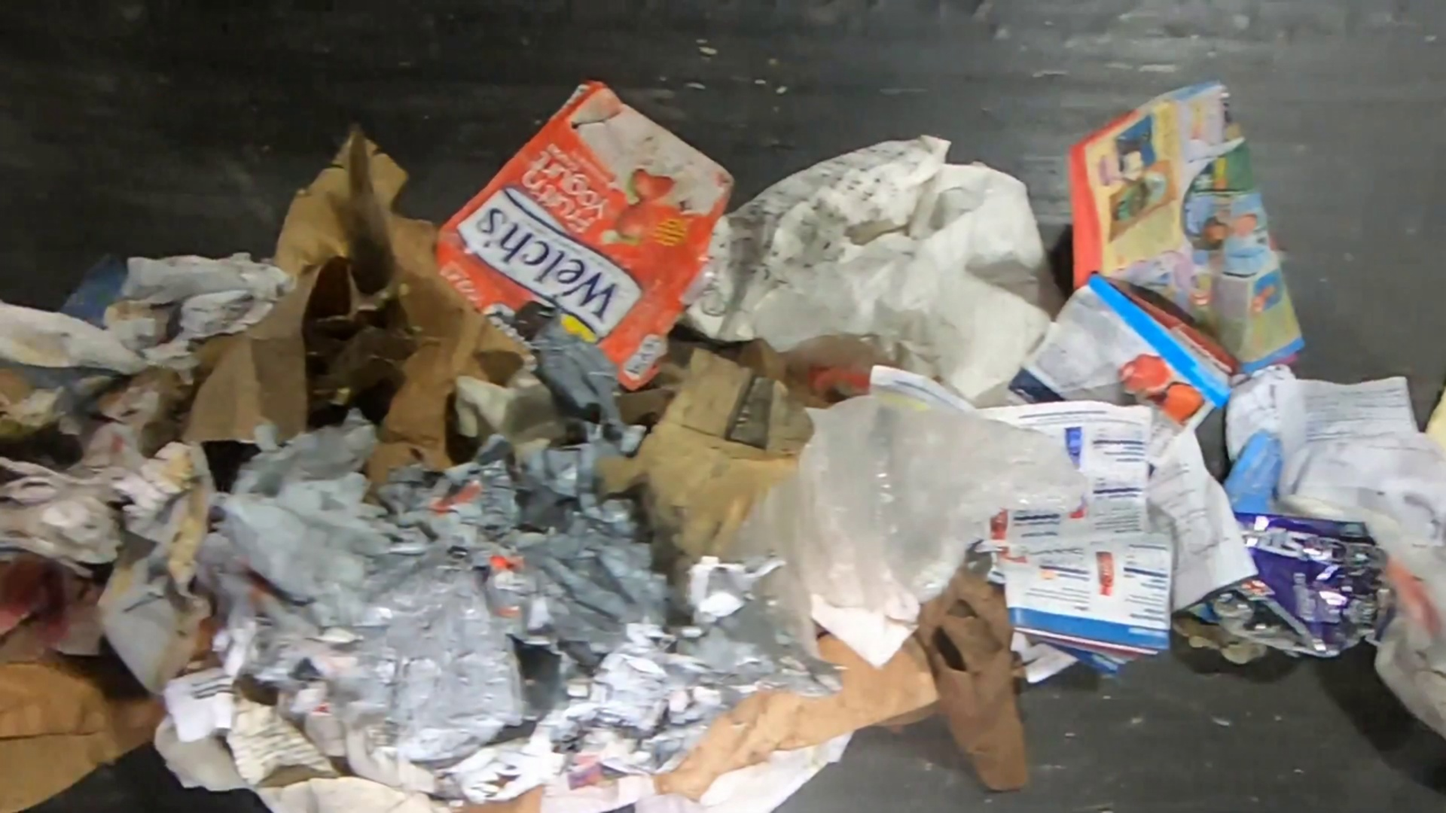cardboard: (434, 77, 737, 392), (594, 333, 904, 588), (653, 632, 942, 805), (0, 650, 166, 813)
plastic: (722, 393, 1087, 661), (1184, 511, 1398, 660)
